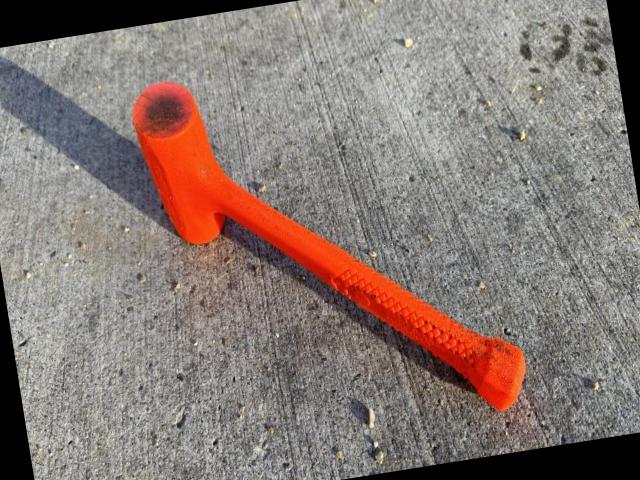hammer: (127, 34, 534, 460)
